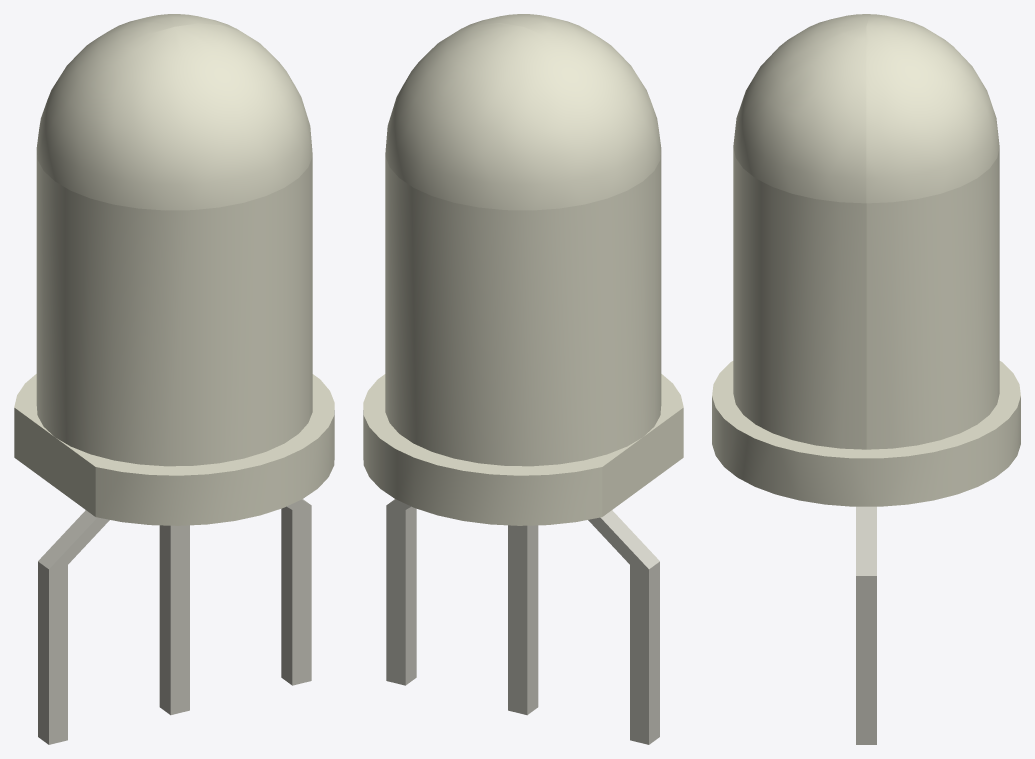
The model's file is kc-led_d5.0mm-3.glb.
3 views of the same model, side by side, from view 1: azimuth 30°, elevation 25°; view 2: azimuth 150°, elevation 25°; view 3: azimuth 270°, elevation 25° (orthographic). The views are drawn at different scales.
Visible parts, largest first — view 1: 0.75_0.75_0.6666666666666666_0, 0.6666666666666666_0.6666666666666666_0.5833333333333334_0.8; view 2: 0.75_0.75_0.6666666666666666_0, 0.6666666666666666_0.6666666666666666_0.5833333333333334_0.8; view 3: 0.75_0.75_0.6666666666666666_0, 0.6666666666666666_0.6666666666666666_0.5833333333333334_0.8.
Boxes of the visible parts, x1,y1,x2,y2 form: 0.75_0.75_0.6666666666666666_0: (14,14,334,525); 0.6666666666666666_0.6666666666666666_0.5833333333333334_0.8: (38,499,311,744); 0.75_0.75_0.6666666666666666_0: (363,14,683,525); 0.6666666666666666_0.6666666666666666_0.5833333333333334_0.8: (386,499,659,744); 0.75_0.75_0.6666666666666666_0: (712,14,1020,506); 0.6666666666666666_0.6666666666666666_0.5833333333333334_0.8: (856,506,876,744).
Bounding box in the file's own units: 0.5628 × 1.36 × 0.5796.
